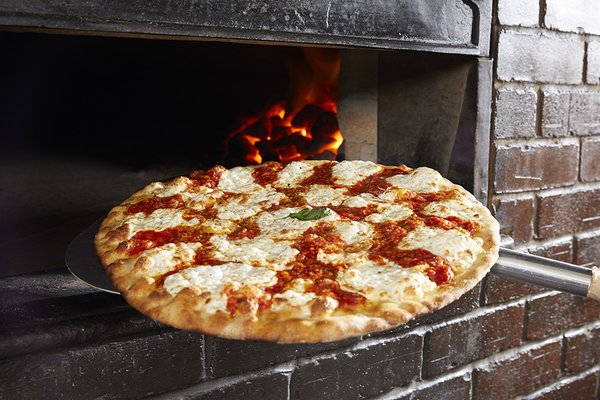sandwich: (90, 157, 501, 344)
